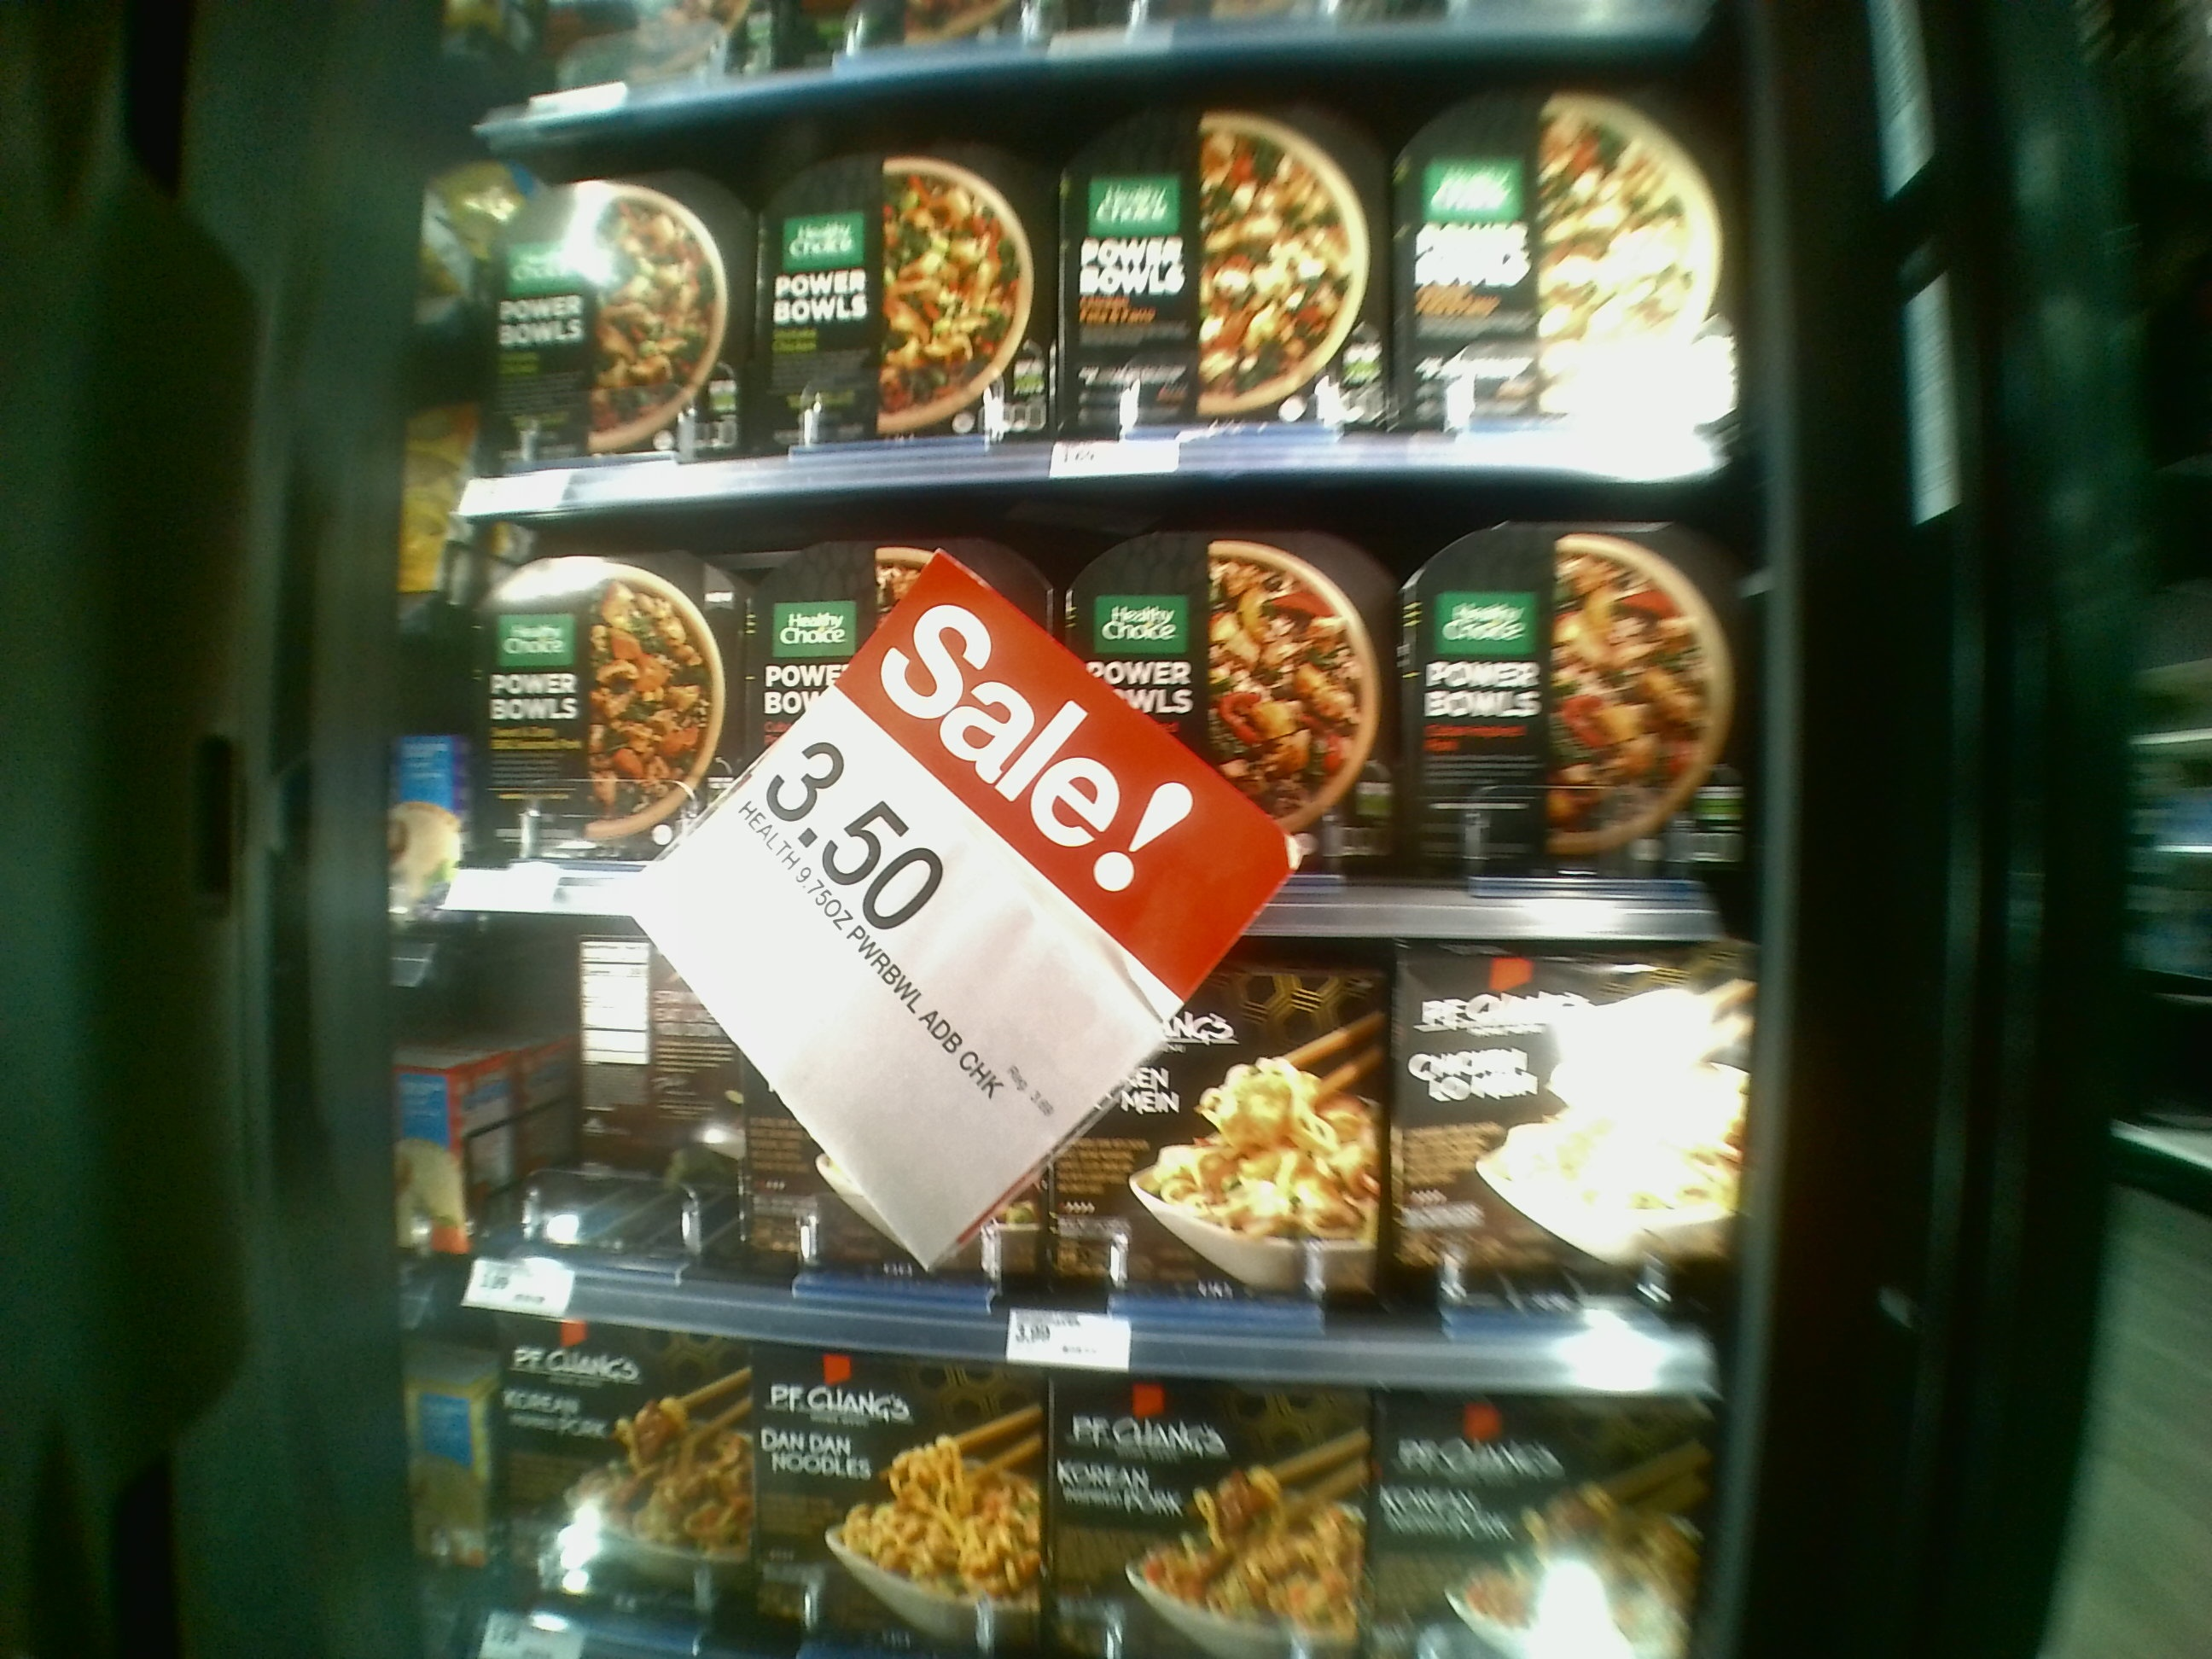shelf: (442, 467, 1742, 948)
